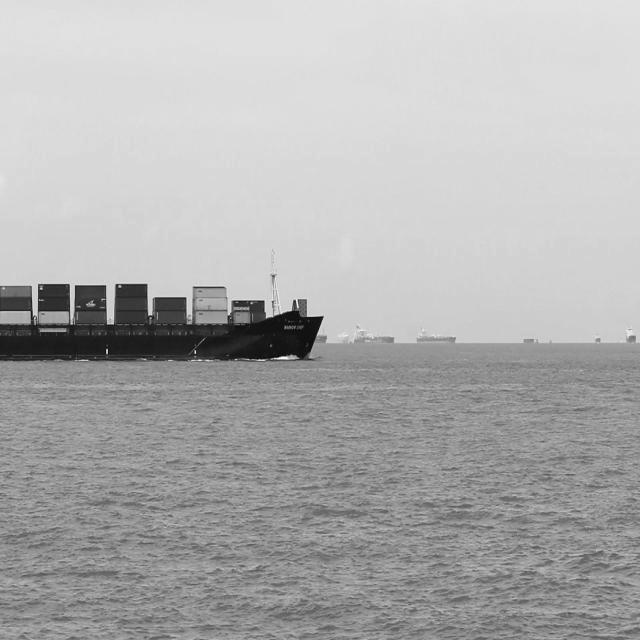ship: (0, 243, 327, 361), (356, 316, 398, 344), (415, 322, 462, 344), (622, 319, 640, 347), (522, 328, 542, 351), (336, 323, 353, 347), (310, 325, 332, 343), (593, 324, 607, 346)
